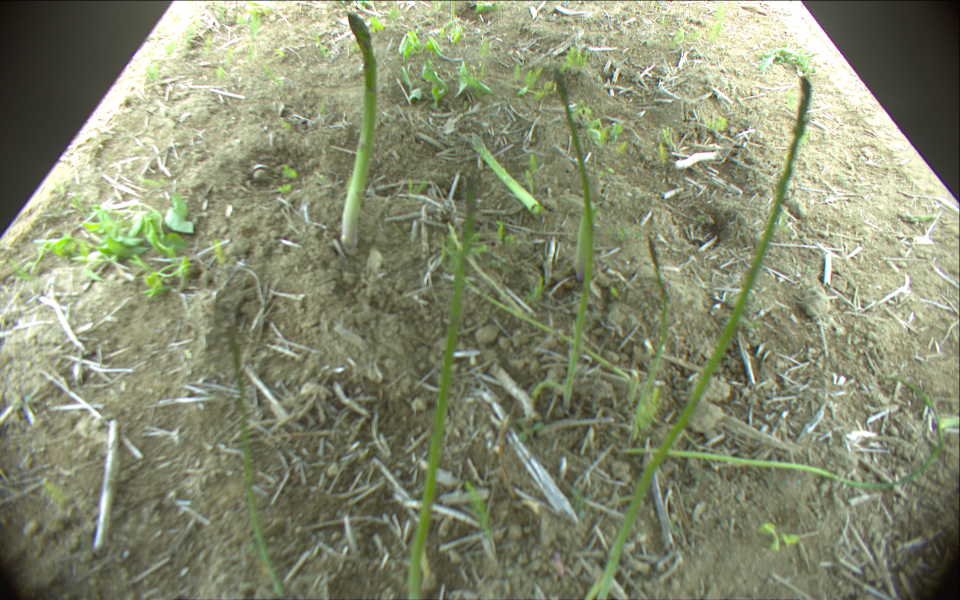aspa: (597, 75, 812, 600), (621, 372, 942, 493), (405, 176, 477, 600), (462, 283, 632, 378), (229, 330, 288, 600), (554, 66, 592, 418), (339, 13, 378, 246), (446, 222, 526, 318), (469, 131, 544, 214), (642, 237, 668, 411), (625, 371, 638, 410)
